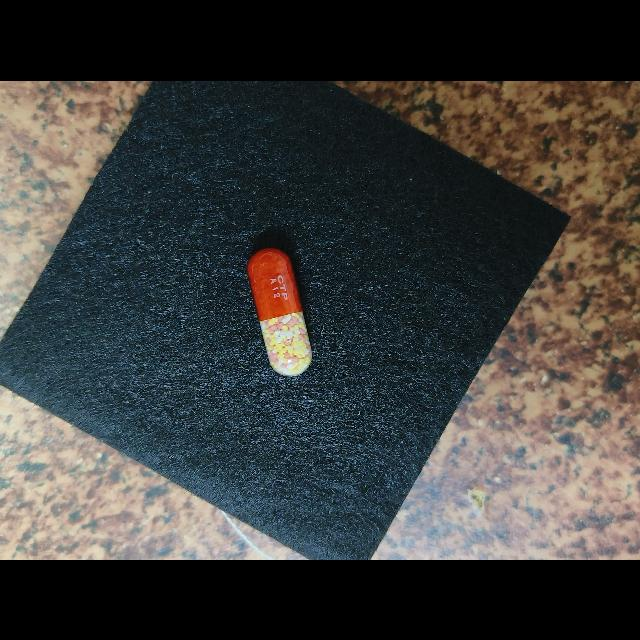Intact Capsule: (247, 247, 312, 376)
